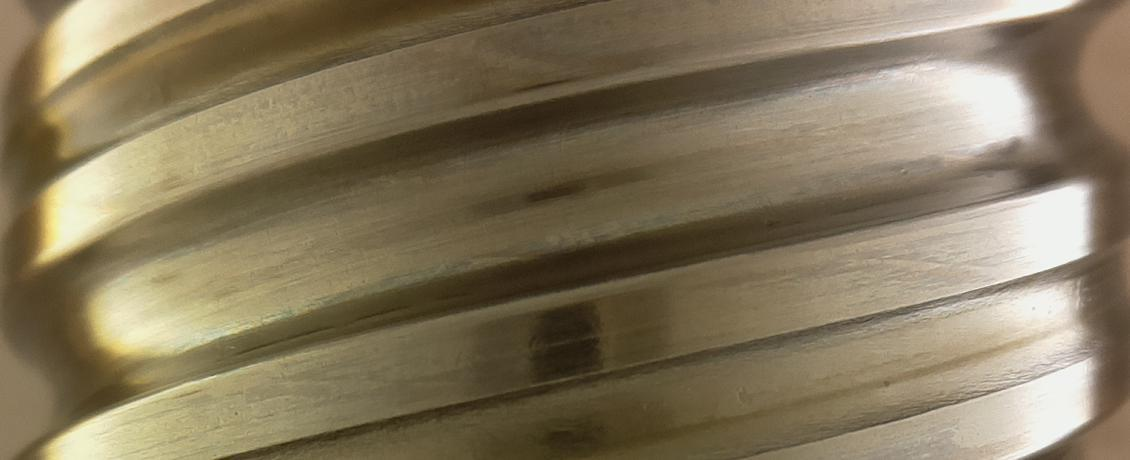pitting: (767, 218, 782, 228)
